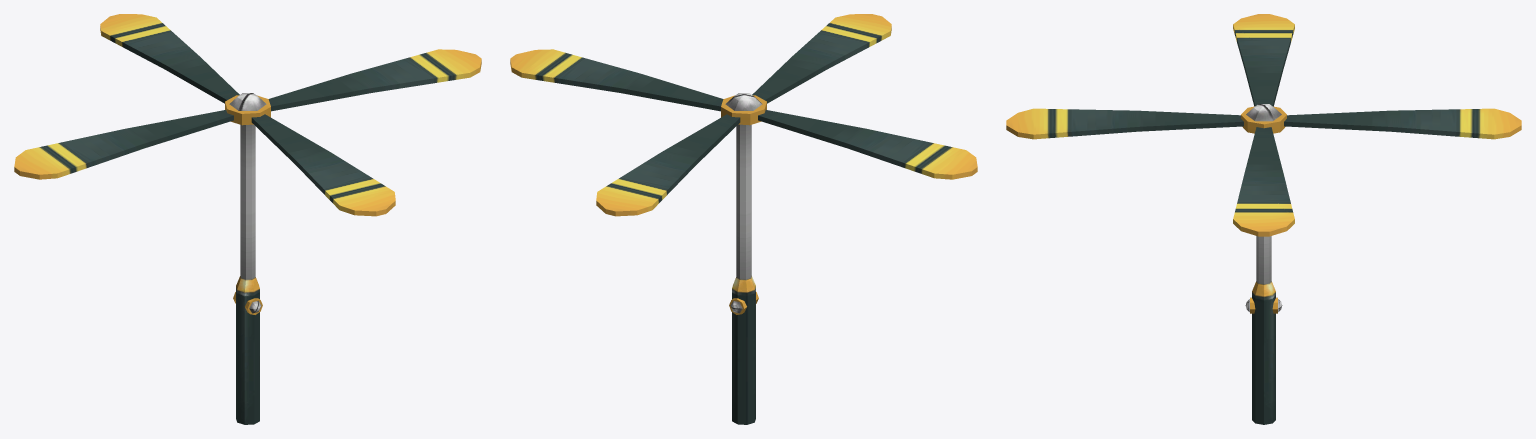
The model's file is heli.obj.
The picture shows the model from 3 angles, left to right: view 1: azimuth 30°, elevation 25°; view 2: azimuth 150°, elevation 25°; view 3: azimuth 270°, elevation 25°; orthographic projection. The views are drawn at different scales.
Visible parts, largest first — view 1: Mesh1; view 2: Mesh1; view 3: Mesh1.
Part boxes in pixels (x1,y1,x2,y2): Mesh1: (14, 14, 481, 424); Mesh1: (510, 14, 977, 424); Mesh1: (1006, 14, 1521, 424).
Bounding box in the file's own units: 39.54 × 26.65 × 39.55.
